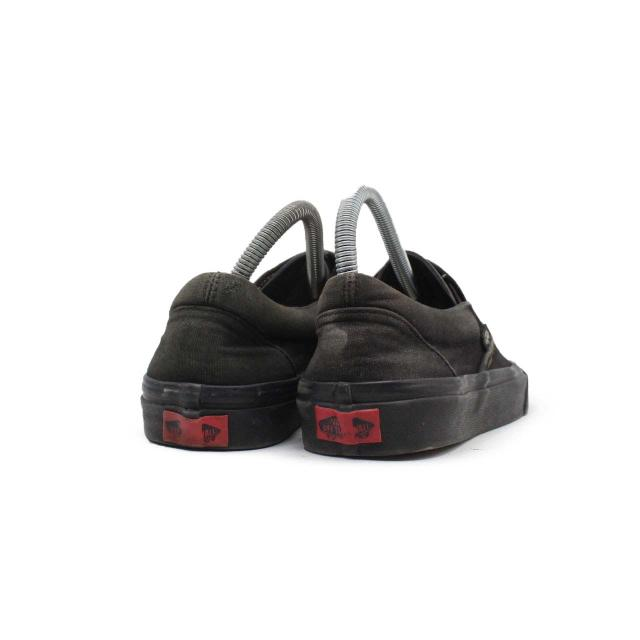heel: (145, 272, 301, 382), (304, 276, 463, 377)
midsole: (295, 365, 524, 457), (141, 376, 297, 450)
